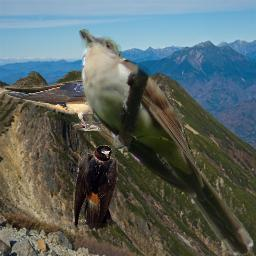Cuckoo: (79, 29, 254, 256)
Swallow: (5, 58, 133, 131), (73, 145, 118, 231)
